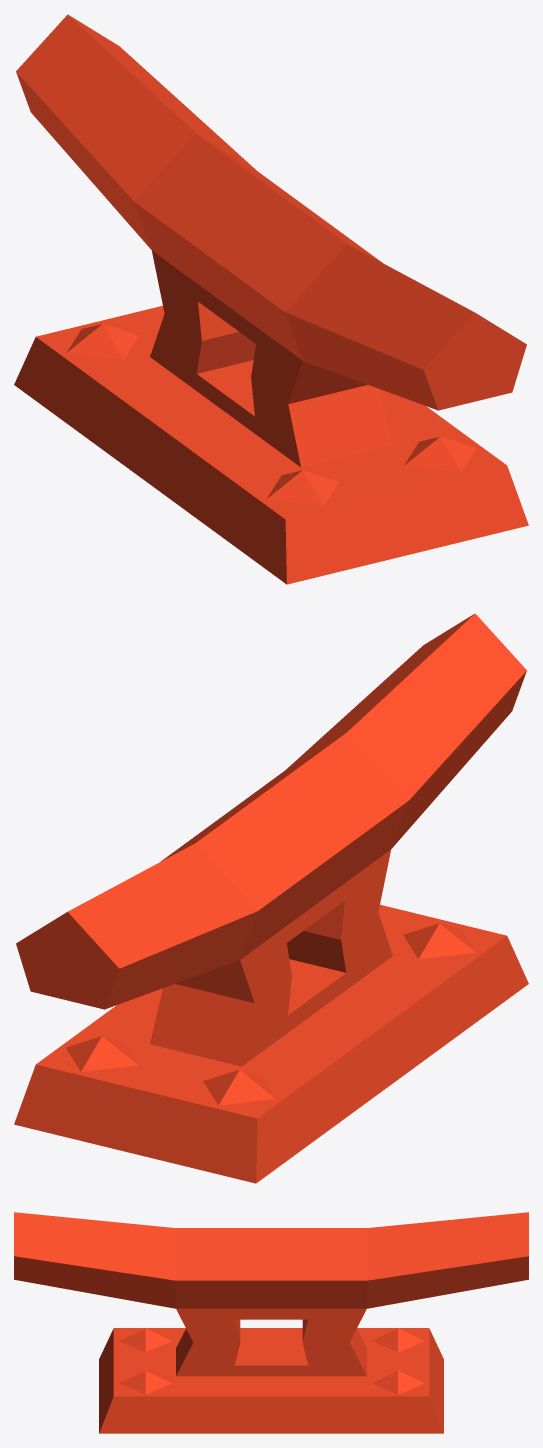
The model's file is SM_Pier_Bollard_City.fbx.
The picture shows the model from 3 angles, top to bottom: view 1: azimuth 30°, elevation 25°; view 2: azimuth 150°, elevation 25°; view 3: azimuth 270°, elevation 25°; orthographic projection. The views are drawn at different scales.
Visible parts, largest first — view 1: SM_Pier_Bollard_City; view 2: SM_Pier_Bollard_City; view 3: SM_Pier_Bollard_City.
Boxes of the visible parts, x1=… form: SM_Pier_Bollard_City: x1=14, y1=14, x2=528, y2=584; SM_Pier_Bollard_City: x1=14, y1=613, x2=528, y2=1183; SM_Pier_Bollard_City: x1=14, y1=1212, x2=528, y2=1433.
Size of the model in its own units: 0.1257 by 0.1447 by 0.3665.
